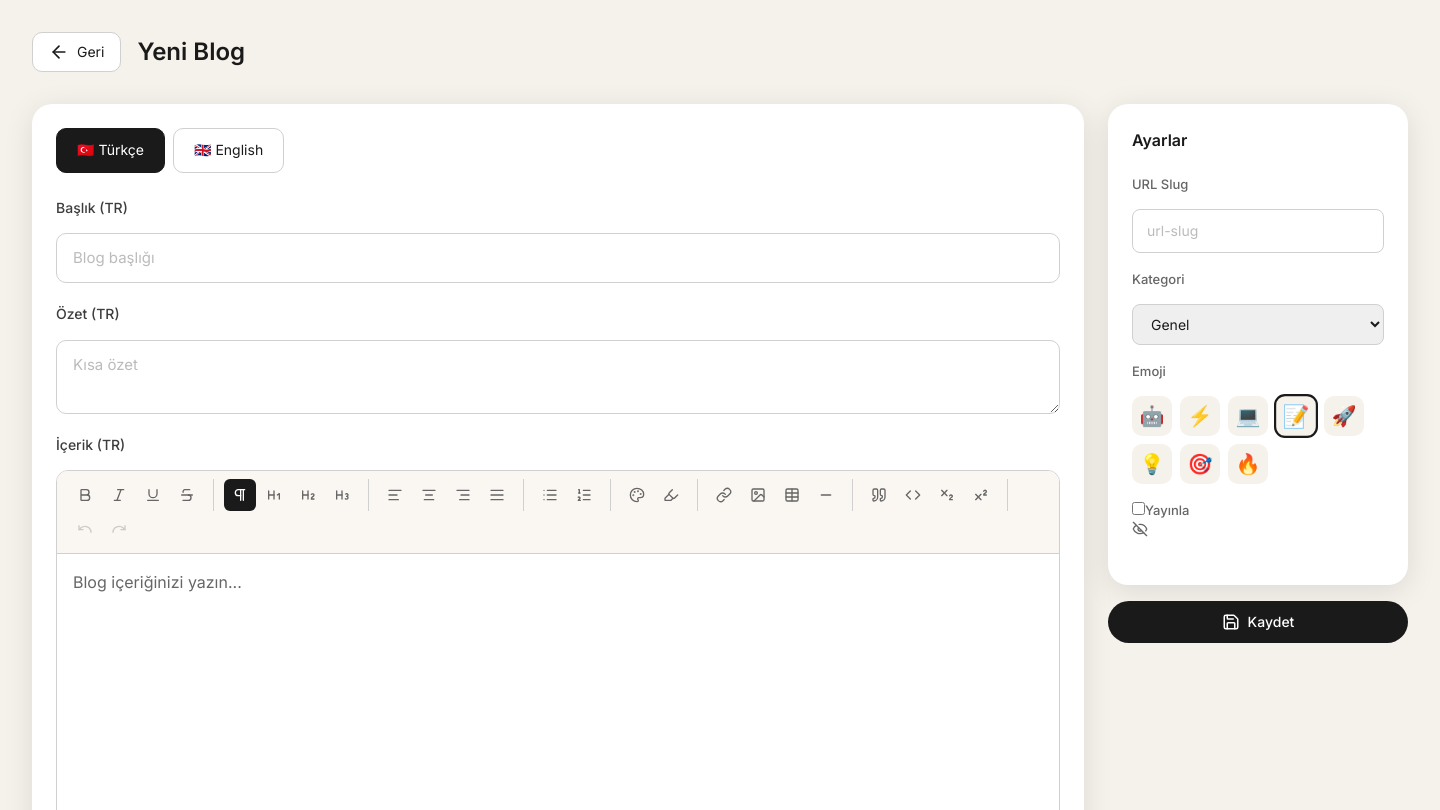
Test: BlogEditor › switches languages
Click the button "🇬🇧 English" at (229, 151), box [173,128,284,173]
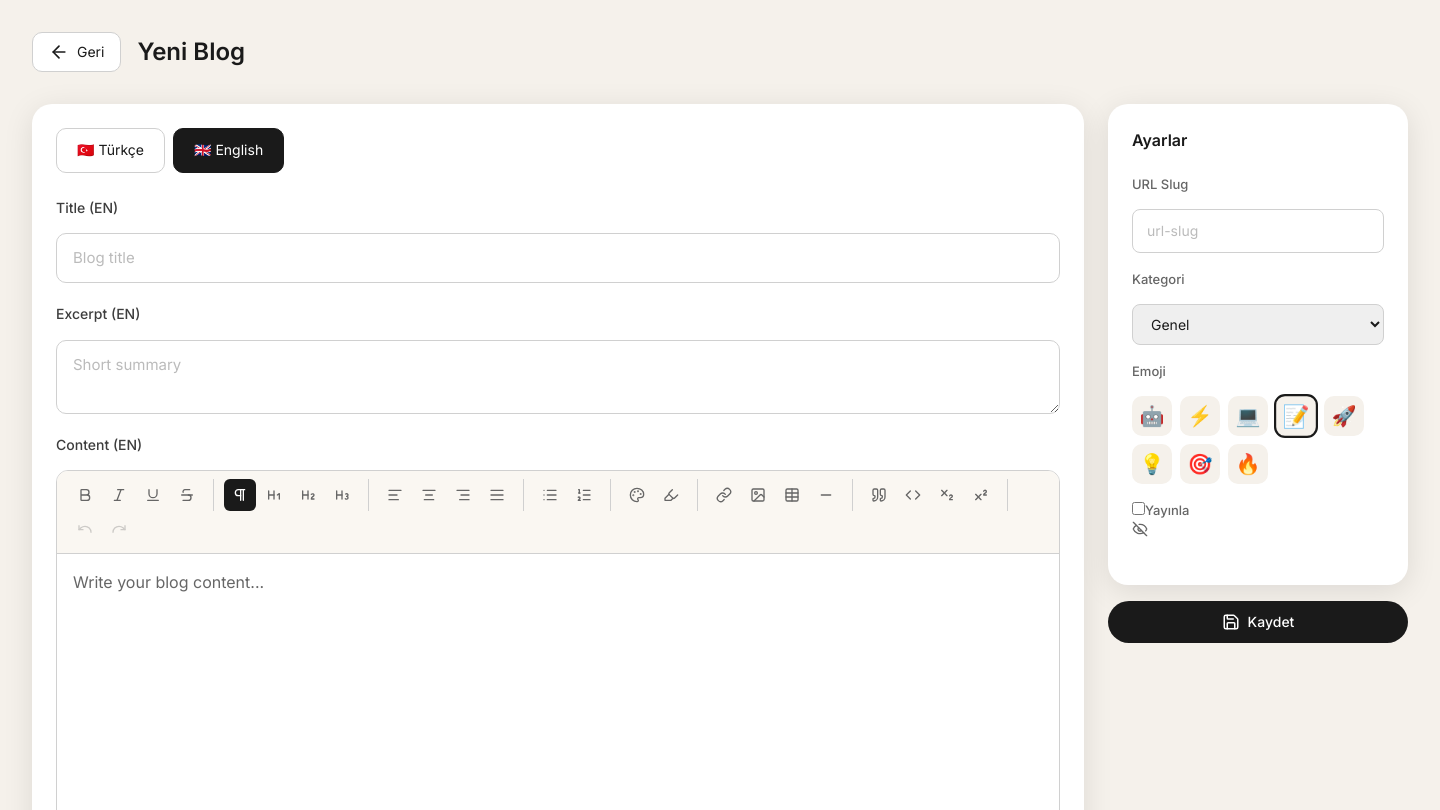
Now the text "Title (EN)" is shown, box [56,199,118,216]
Now the text "Başlık (TR)" is gone
